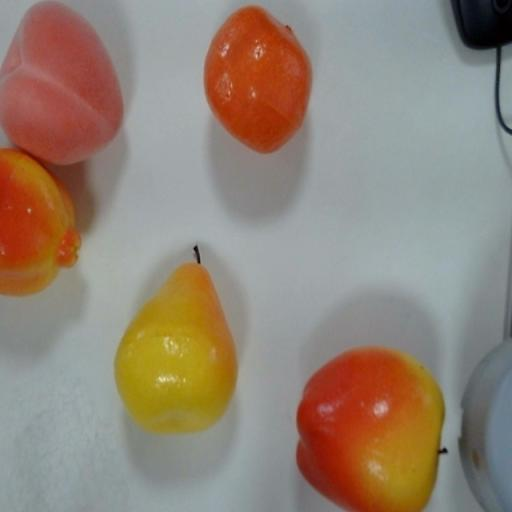Ripe: (294, 341, 452, 510), (113, 240, 242, 440), (0, 2, 129, 171), (200, 2, 316, 158), (0, 148, 84, 298)
